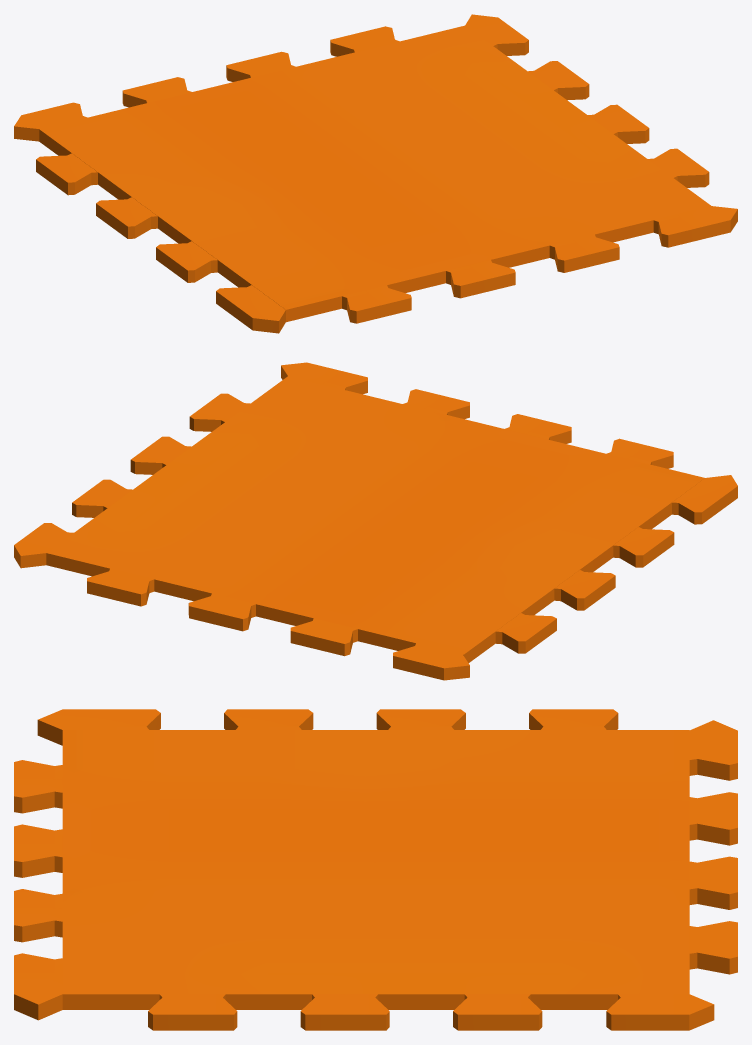
File: PuzzleMatYellow.fbx
The picture shows the model from 3 angles, top to bottom: view 1: azimuth 30°, elevation 25°; view 2: azimuth 150°, elevation 25°; view 3: azimuth 270°, elevation 25°; orthographic projection. The views are drawn at different scales.
Visible parts, largest first — view 1: Cube; view 2: Cube; view 3: Cube.
Part boxes in pixels (<box>): Cube: <box>14,14,737,333</box>; Cube: <box>14,362,737,680</box>; Cube: <box>14,709,737,1030</box>.
Bounding box in the file's own units: 9.48 × 0.2291 × 9.5.
